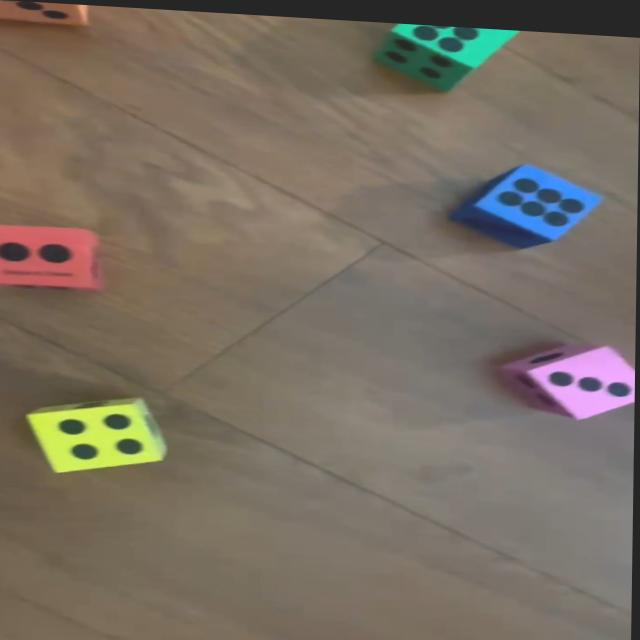blue_block: (454, 155, 606, 245)
red_block: (0, 222, 108, 293)
